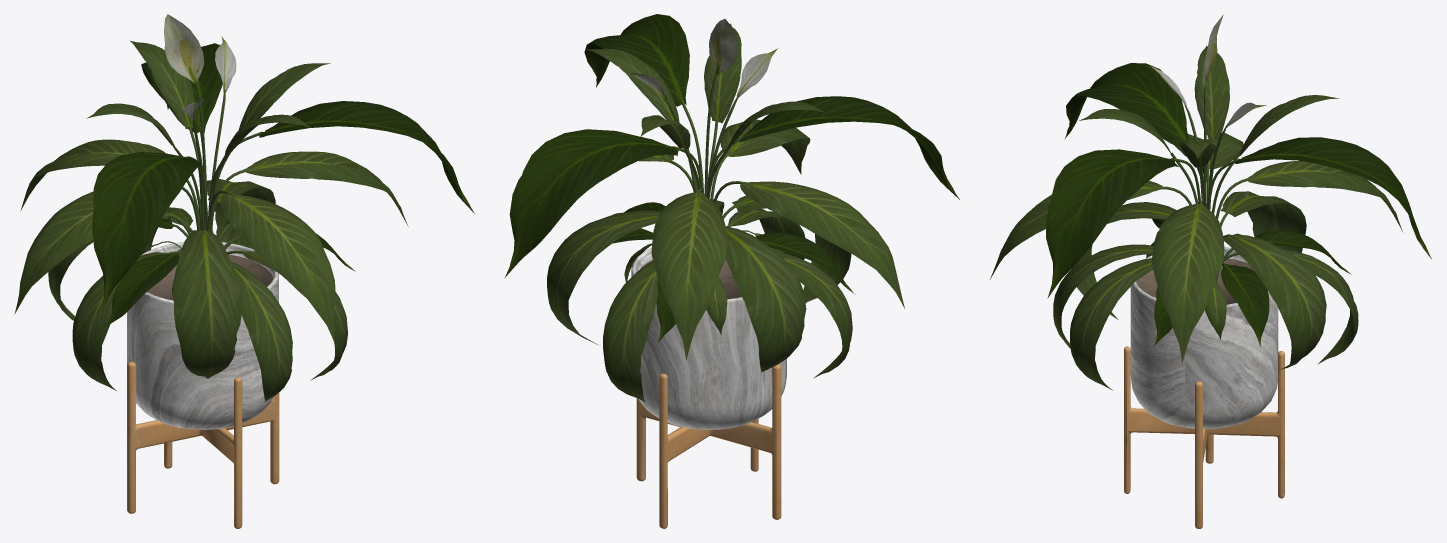
The model's file is Lily.fbx.
3 views of the same model, side by side, from view 1: azimuth 30°, elevation 25°; view 2: azimuth 150°, elevation 25°; view 3: azimuth 270°, elevation 25° (orthographic). The views are drawn at different scales.
Parts seen in each view (by area): view 1: Peace Lily; view 2: Peace Lily; view 3: Peace Lily.
Part boxes in pixels (x1=…): Peace Lily: x1=14, y1=14, x2=474, y2=528; Peace Lily: x1=504, y1=14, x2=959, y2=528; Peace Lily: x1=990, y1=14, x2=1431, y2=528.
Size of the model in its own units: 221 by 265 by 227.
5 materials, 4 textured.
